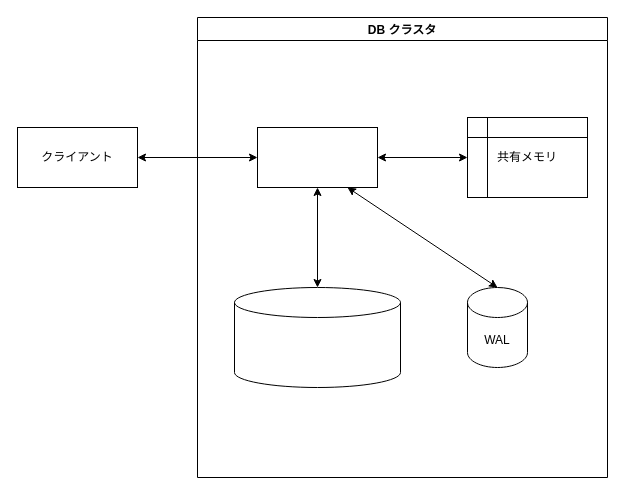
This 625x495 diagram has some shape labels left out. Here are the shapes that lost their labels. From the top down, the box of each, then its label:
(256, 126, 378, 188): サーバープロセス
(234, 286, 400, 388): データベース
